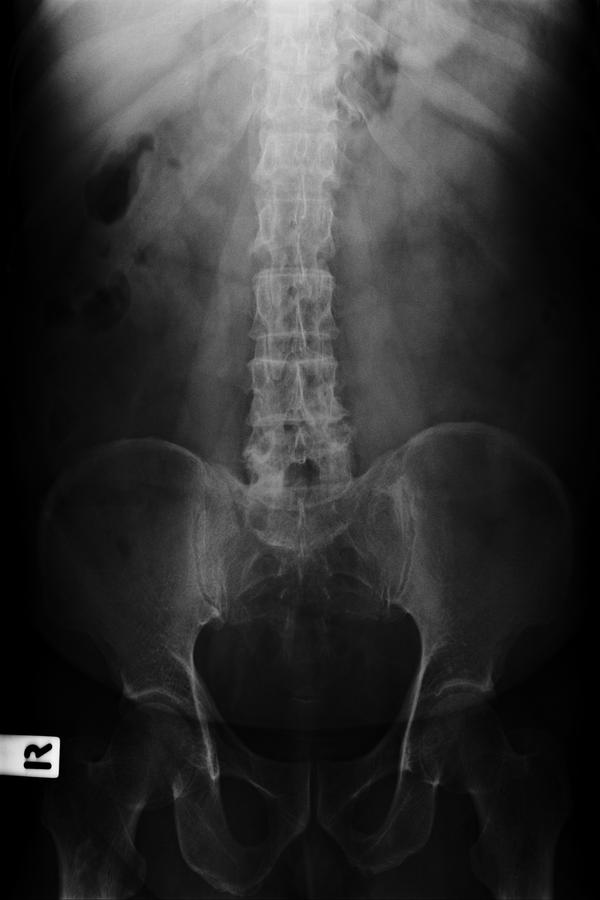lumbar scoliosis: (246, 143, 361, 525)
